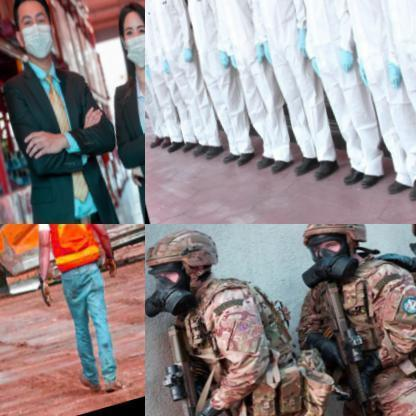vest: (170, 273, 309, 415), (288, 0, 393, 169), (235, 0, 345, 160), (297, 256, 415, 393), (333, 0, 415, 178), (207, 0, 291, 155), (179, 0, 257, 151), (146, 0, 220, 144), (368, 0, 415, 199), (145, 0, 187, 129), (39, 224, 105, 275), (145, 0, 165, 131)
